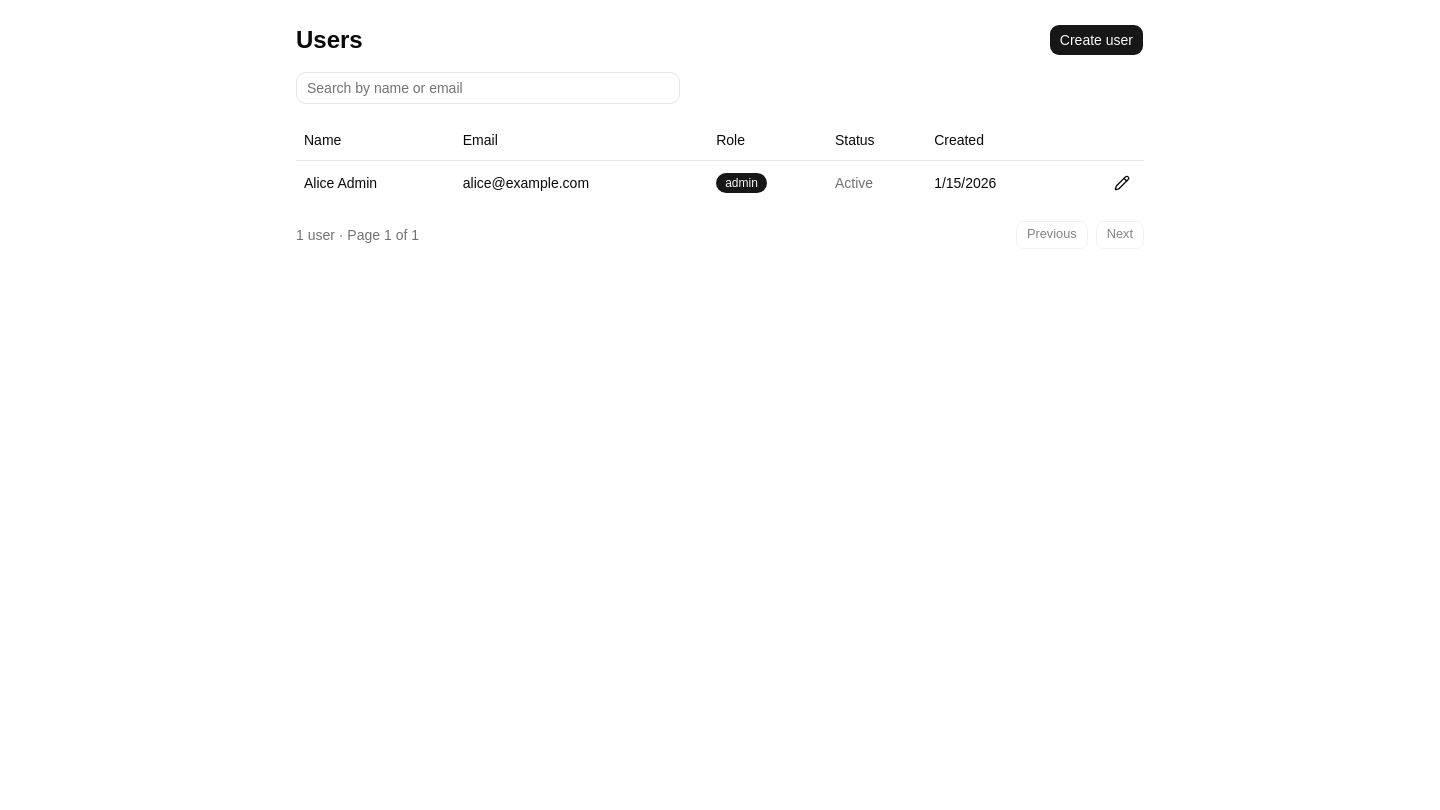
it: UsersPage › create user dialog › is hidden when Escape is pressed
This screenshot has width=1440, height=810.
Expected: the text "Alice Admin" is shown, x1=296 y1=160 x2=455 y2=204
Click the button "Create user" at (1096,40), box x1=1049 y1=24 x2=1144 y2=56
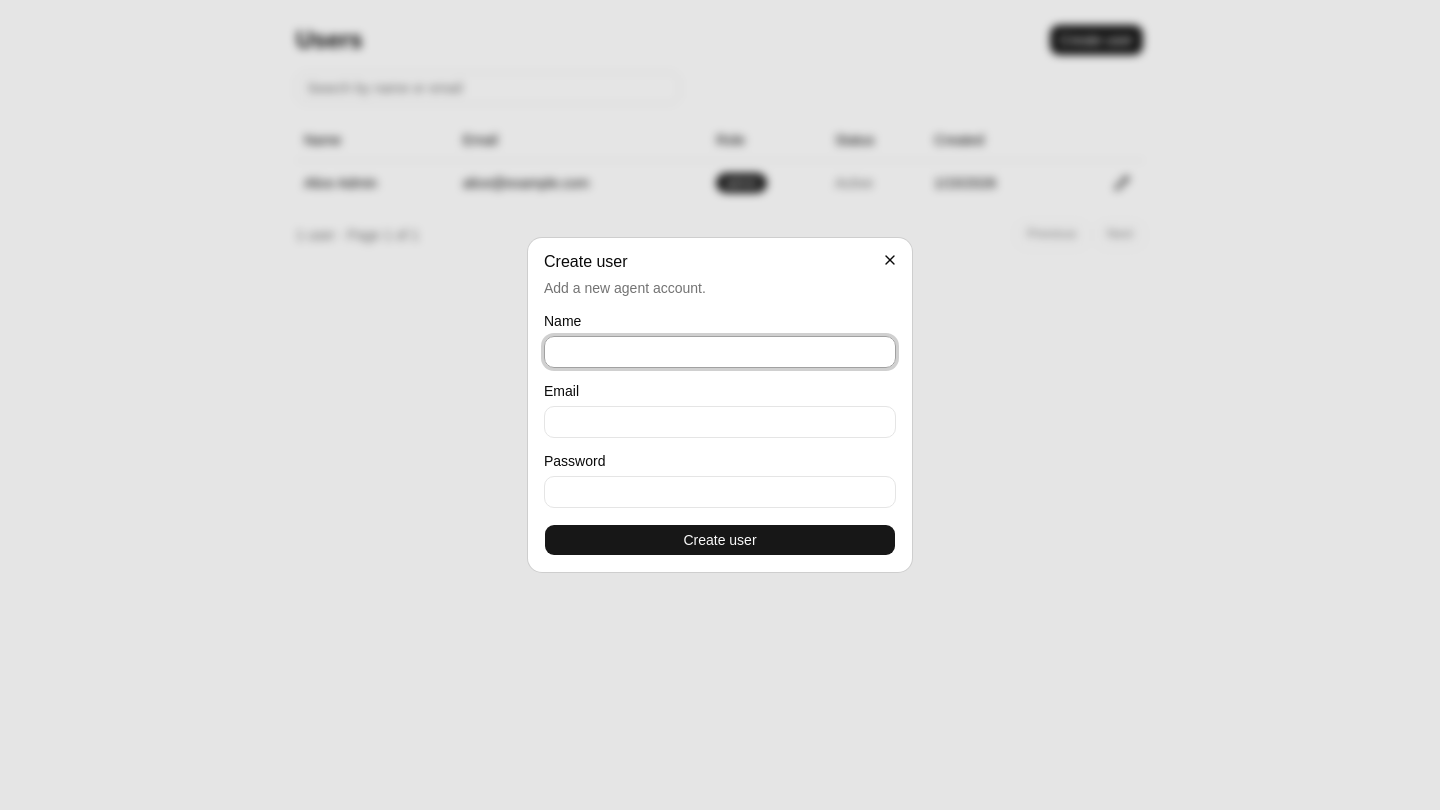
Expected: the dialog "Create user" is shown, x1=528 y1=238 x2=912 y2=572
Press Escape
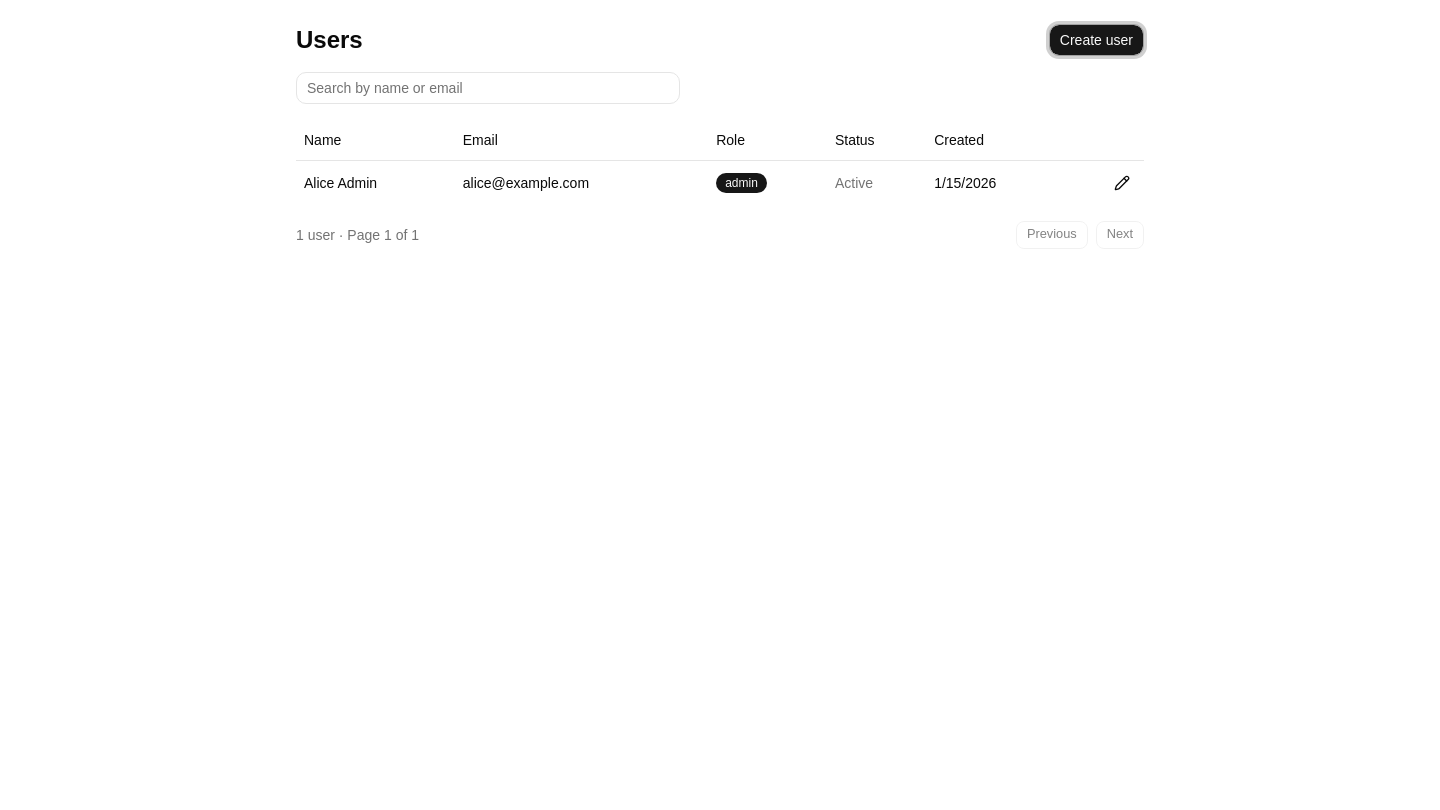
Expected: the dialog is gone
